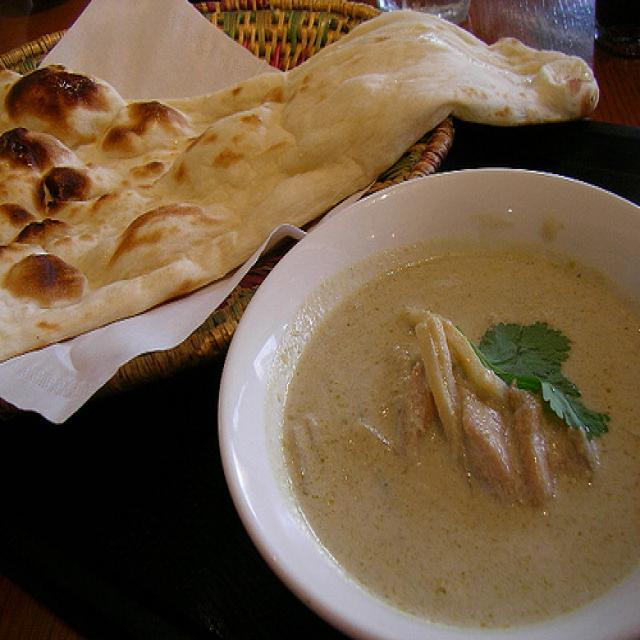Beef Curry: (345, 275, 611, 576)
